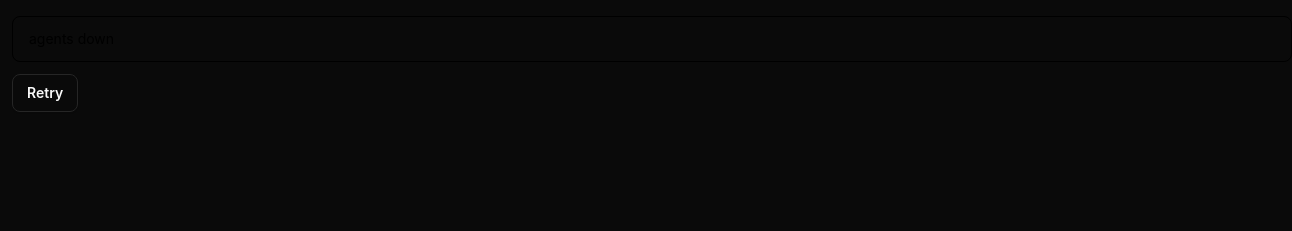
FleetAgents › shows an error and retries
Click the button "Retry": (45, 93) [12,74,78,112]
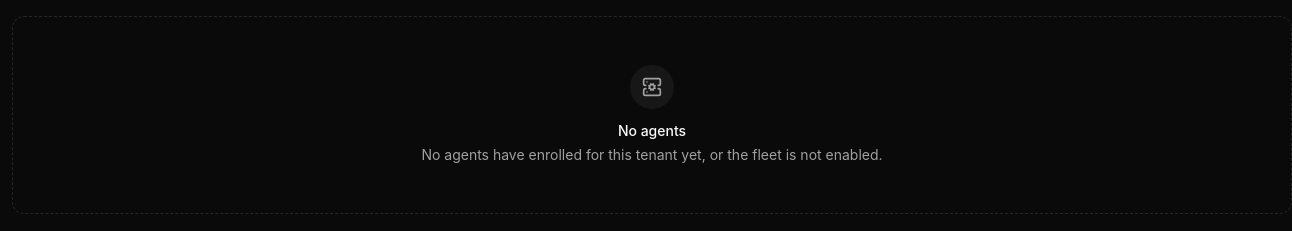
Expected: the text "No agents" is shown, [618,122,686,139]
